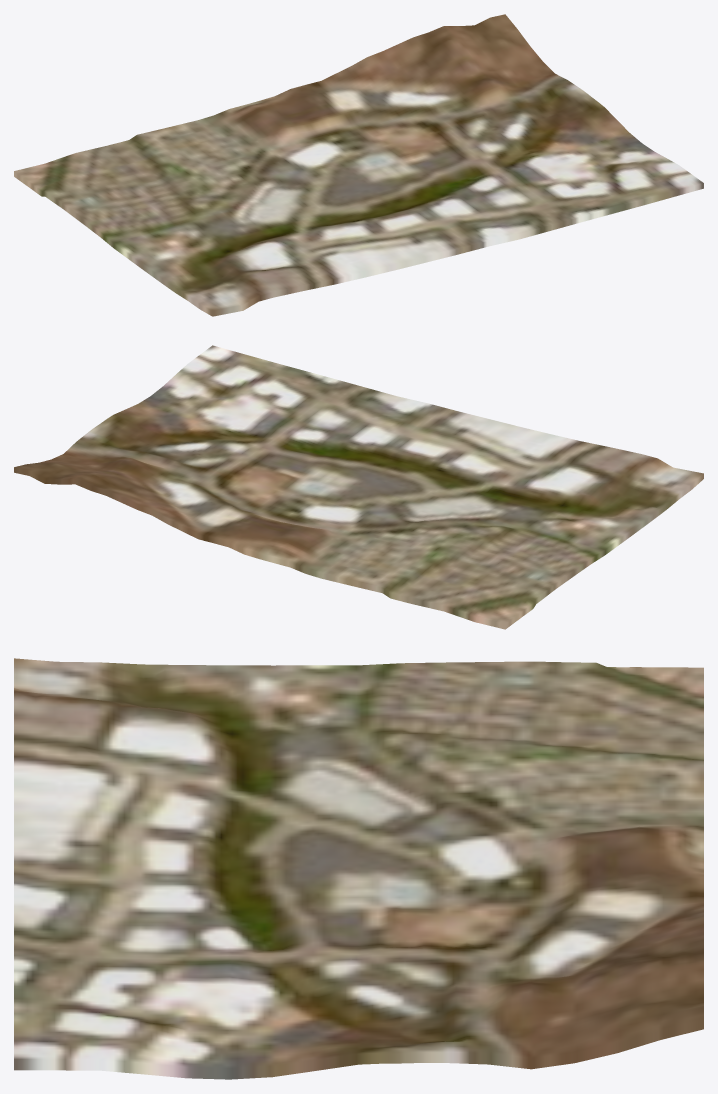
The model's file is terrain_r3_c5_lod2.glb.
3 renders of one model, top to bottom at view 1: azimuth 30°, elevation 25°; view 2: azimuth 150°, elevation 25°; view 3: azimuth 270°, elevation 25°, orthographic. The views are drawn at different scales.
Visible parts, largest first — view 1: terrain_r3_c5_lod2; view 2: terrain_r3_c5_lod2; view 3: terrain_r3_c5_lod2.
Part boxes in pixels (<box>): terrain_r3_c5_lod2: <box>14,14,703,316</box>; terrain_r3_c5_lod2: <box>14,345,703,629</box>; terrain_r3_c5_lod2: <box>14,658,703,1079</box>.
Size of the model in its own units: 1125 by 100 by 787.
Materials: 1 (1 with a texture image).
